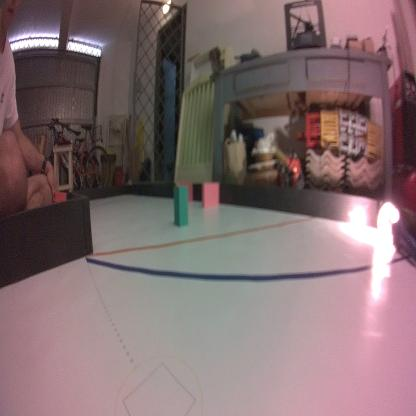green: (172, 182, 190, 230)
magenta: (201, 179, 221, 210)
